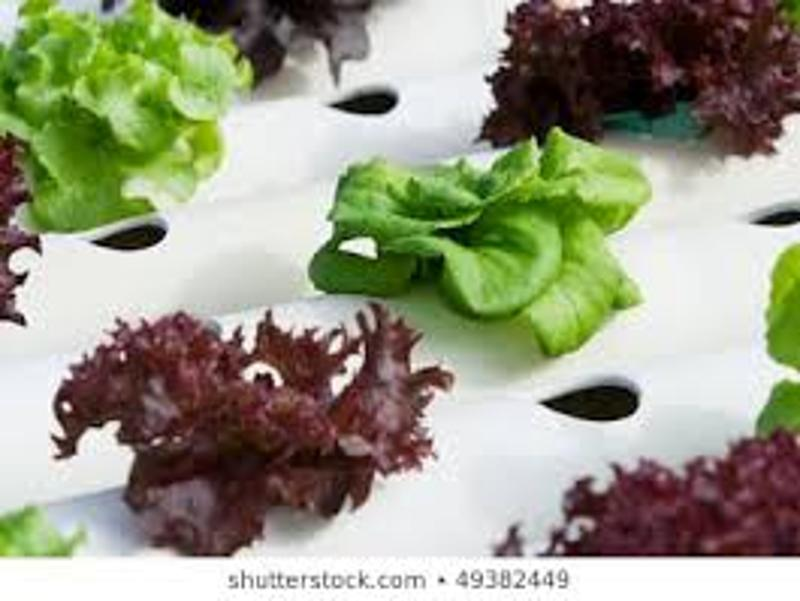cabbage: (331, 124, 644, 339)
green lettuce: (16, 7, 256, 224)
red lettuce: (77, 303, 439, 550), (501, 4, 800, 154)
